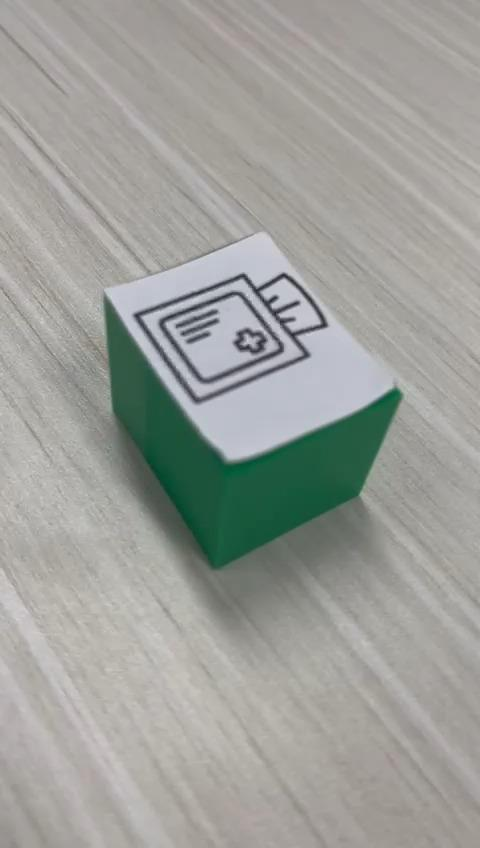Gauze: (101, 229, 404, 569)
